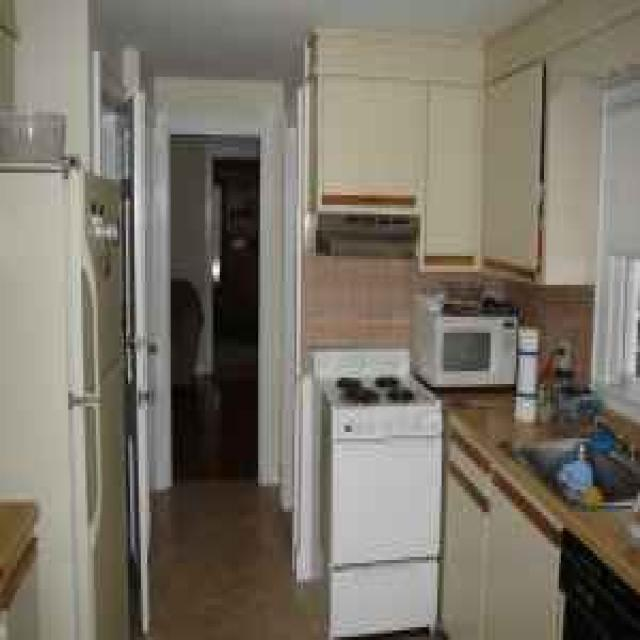Fridge: (2, 166, 128, 637)
Open door: (169, 131, 256, 480)
cupboard crop: (482, 51, 546, 282), (314, 77, 427, 192), (422, 80, 482, 269)
dirty mug: (578, 483, 599, 506)
kitchen cabinet: (495, 419, 636, 509)
microwave: (407, 291, 516, 387)
stove burner: (305, 342, 442, 637)
